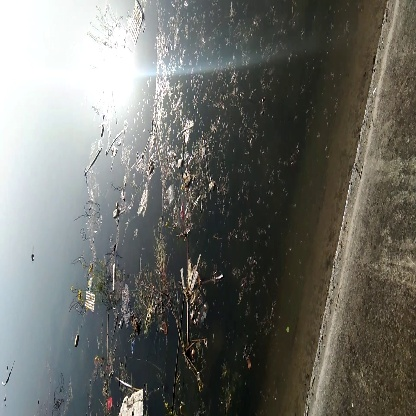plastic-garbage: (115, 388, 150, 416)
